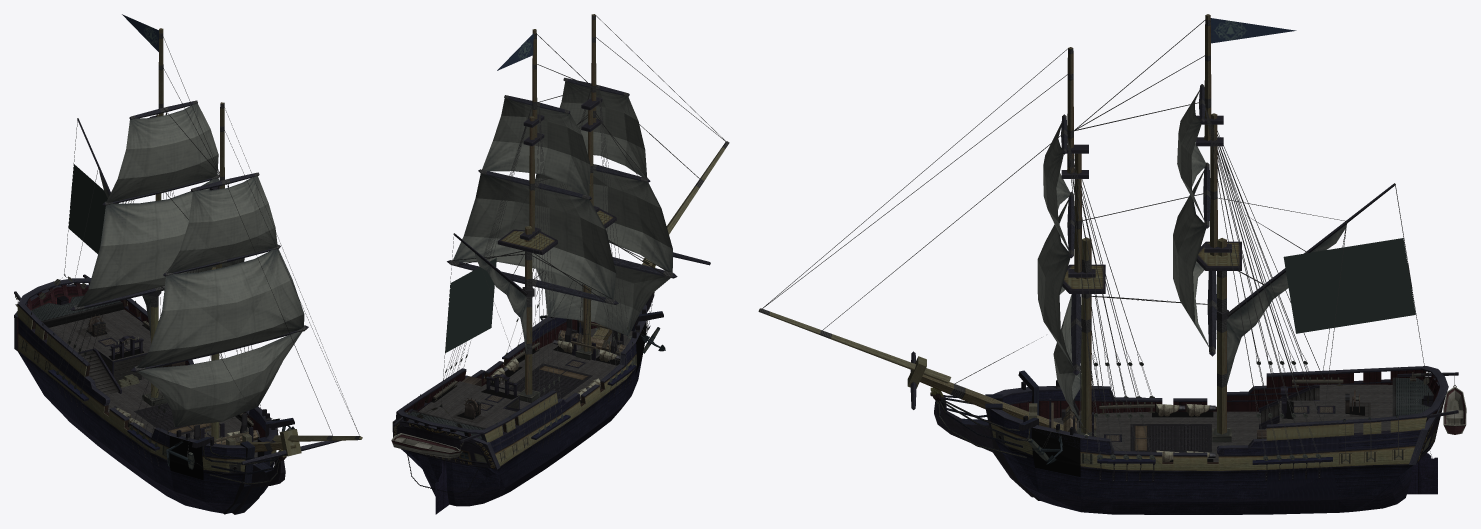
The model's file is ship.obj.
The picture shows the model from 3 angles, left to right: view 1: azimuth 30°, elevation 25°; view 2: azimuth 150°, elevation 25°; view 3: azimuth 270°, elevation 25°; orthographic projection. The views are drawn at different scales.
Visible parts, largest first — view 1: rdmobj05, rdmobj00, rdmobj01, rdmobj08, rdmobj07, rdmobj12, rdmobj09, rdmobj11, rdmobj04, rdmobj02, rdmobj10, rdmobj13 (+1 smaller); view 2: rdmobj05, rdmobj00, rdmobj08, rdmobj10, rdmobj07, rdmobj12, rdmobj13, rdmobj01, rdmobj04, rdmobj02, rdmobj11, rdmobj09 (+2 smaller); view 3: rdmobj00, rdmobj05, rdmobj08, rdmobj04, rdmobj01, rdmobj12, rdmobj07, rdmobj10, rdmobj02, rdmobj11, rdmobj09, rdmobj06 (+2 smaller).
Part boxes in pixels (x1,y1,x2,y2): rdmobj05: (77, 103, 304, 427); rdmobj00: (14, 34, 359, 513); rdmobj01: (17, 305, 276, 472); rdmobj08: (17, 28, 356, 464); rdmobj07: (46, 309, 259, 464); rdmobj12: (31, 115, 301, 514); rdmobj09: (48, 14, 293, 514); rdmobj11: (31, 32, 362, 460); rdmobj04: (68, 164, 118, 253); rdmobj02: (32, 291, 259, 445); rdmobj10: (14, 274, 273, 472); rdmobj13: (15, 296, 254, 443); rdmobj05: (453, 81, 672, 353); rdmobj00: (393, 15, 726, 506); rdmobj08: (454, 14, 725, 394); rdmobj10: (392, 341, 605, 514); rdmobj07: (418, 327, 632, 431); rdmobj12: (420, 97, 665, 451); rdmobj13: (391, 320, 623, 458); rdmobj01: (484, 354, 636, 466); rdmobj04: (445, 258, 496, 352); rdmobj02: (482, 287, 625, 411); rdmobj11: (409, 15, 729, 439); rdmobj09: (497, 33, 662, 439); rdmobj00: (762, 20, 1454, 514); rdmobj05: (1037, 90, 1347, 426); rdmobj08: (768, 14, 1438, 434); rdmobj04: (1283, 238, 1415, 333); rdmobj01: (990, 388, 1426, 470); rdmobj12: (907, 115, 1398, 500); rdmobj07: (1053, 384, 1392, 461); rdmobj10: (995, 371, 1458, 494); rdmobj02: (1029, 304, 1435, 454); rdmobj11: (758, 19, 1433, 464); rdmobj09: (938, 18, 1332, 464); rdmobj06: (1011, 369, 1426, 418).
Size of the model in its own units: 25.8 by 58.84 by 78.79.
Materials: 14 (14 with a texture image).
